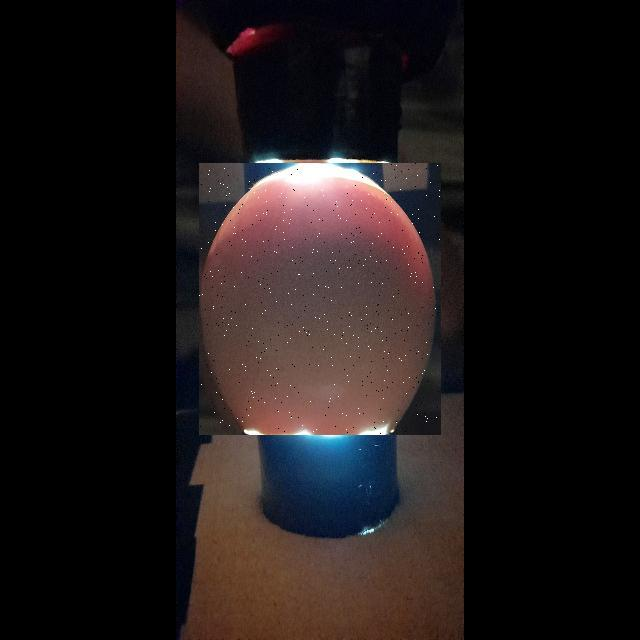Fertile: (199, 163, 441, 435)
